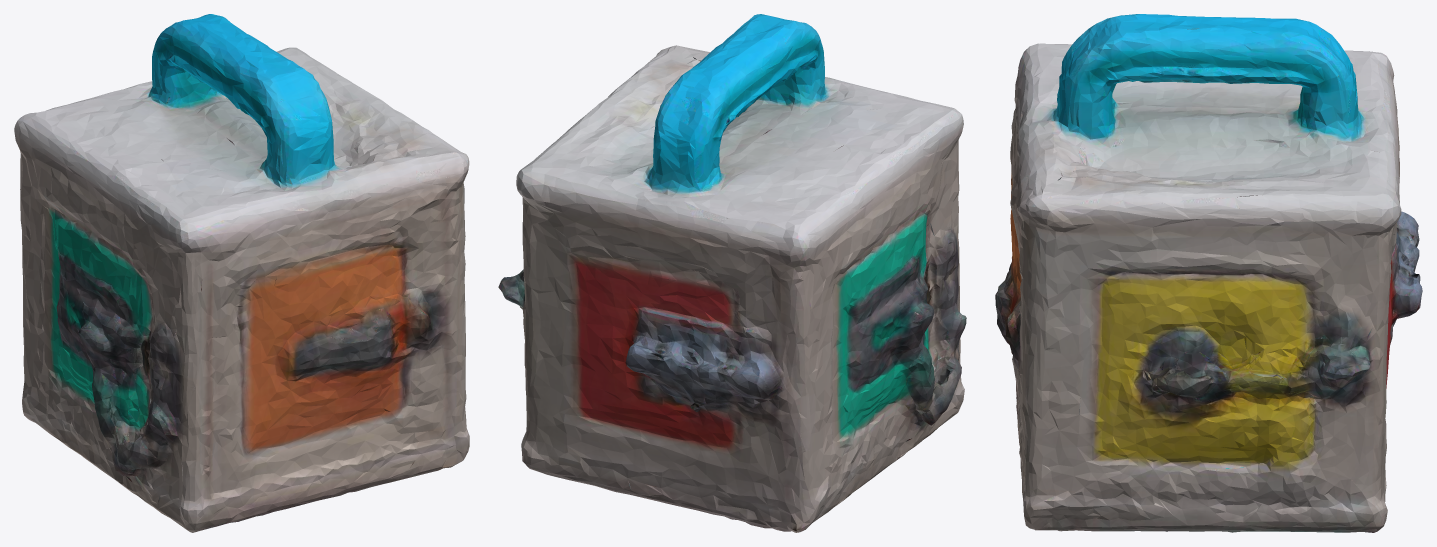
Rendered from colored_box.glb.
3 renders of one model, left to right at view 1: azimuth 30°, elevation 25°; view 2: azimuth 150°, elevation 25°; view 3: azimuth 270°, elevation 25°, orthographic. The views are drawn at different scales.
Visible parts, largest first — view 1: ObjectToExport; view 2: ObjectToExport; view 3: ObjectToExport.
Boxes of the visible parts, box(x1,y1,x2,y2) form: ObjectToExport: box(14, 14, 469, 532); ObjectToExport: box(498, 14, 966, 532); ObjectToExport: box(995, 14, 1422, 532).
Size of the model in its own units: 0.365 by 0.4402 by 0.3458.
1 material, 1 textured.
